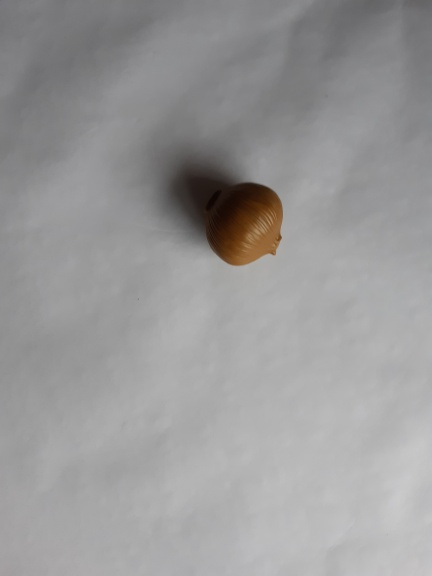onion: (196, 177, 294, 272)
